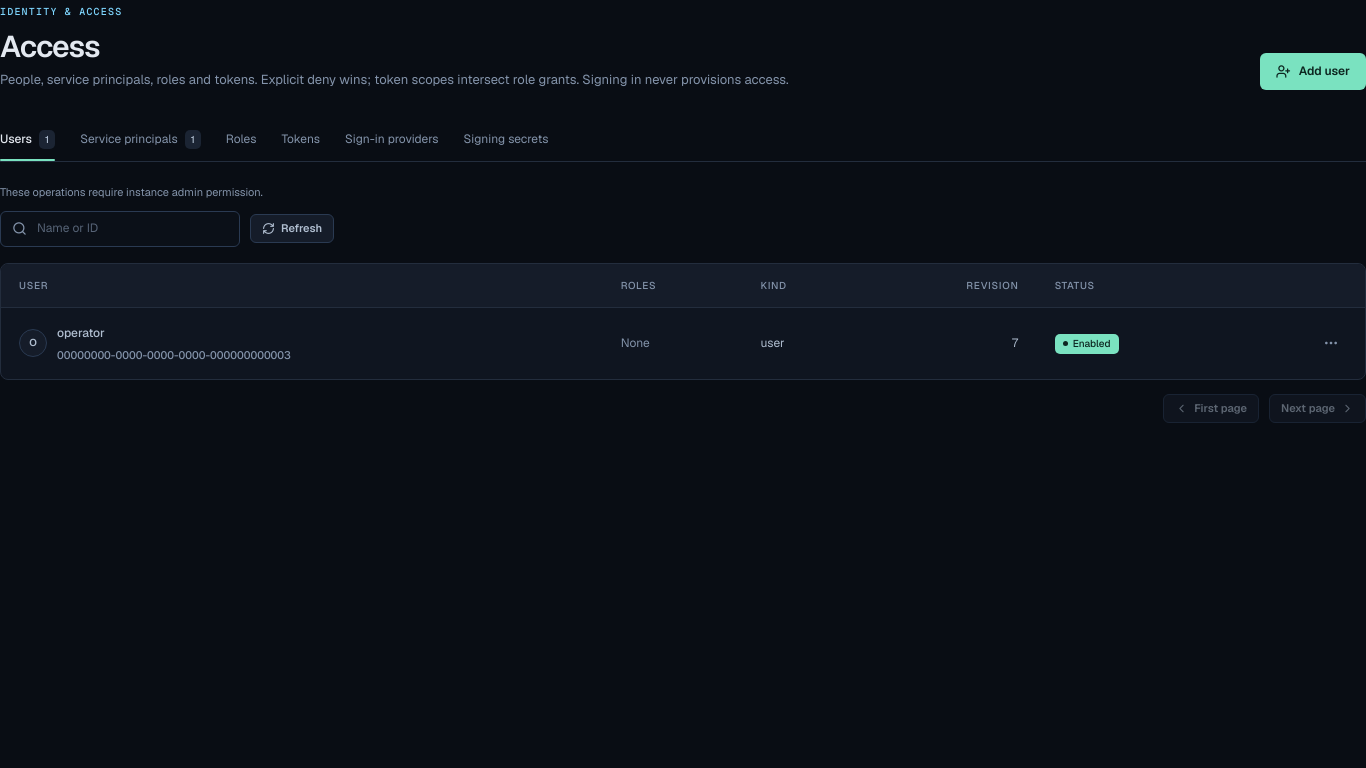
retains issuance failure feedback and requires a distinct new attempt
The width and height of the screenshot is (1366, 768).
Expected: the text "operator" is shown, top-left (57, 325), bottom-right (105, 341)
Click the tab "Tokens": (301, 139) top-left (282, 118), bottom-right (320, 160)
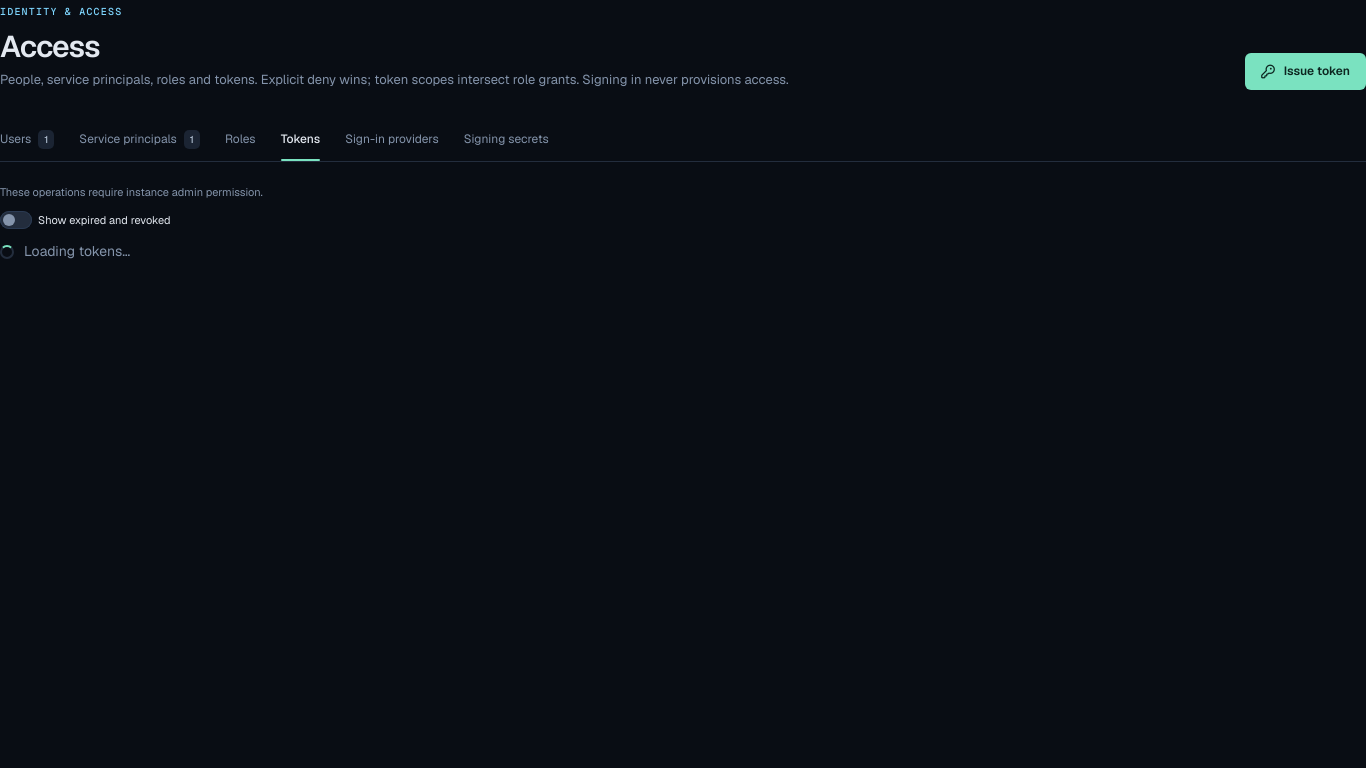
Click the button "Issue token": (1305, 71) top-left (1245, 52), bottom-right (1365, 90)
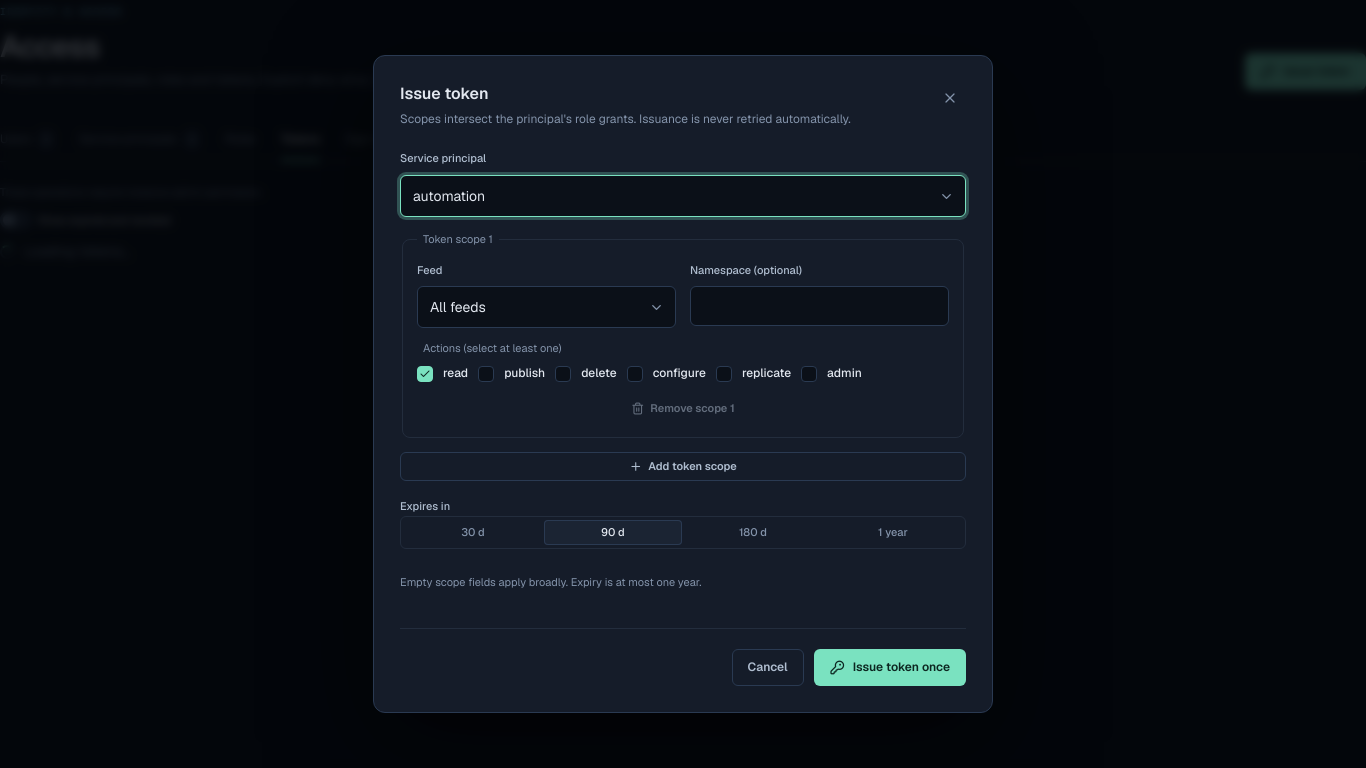
Click the button "Issue token once": (890, 667) top-left (814, 648), bottom-right (966, 686)
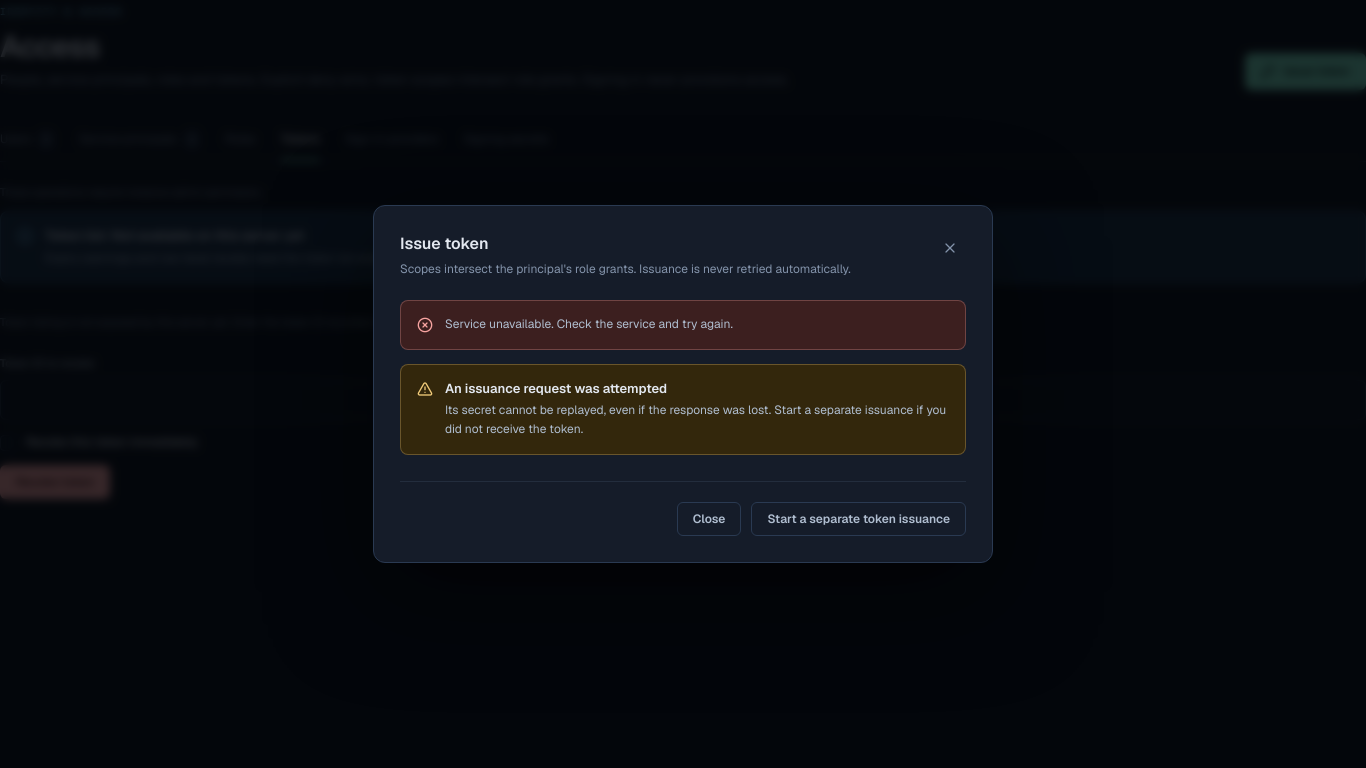
Expected: the text "Service unavailable. Check the service and try again." is shown, top-left (445, 316), bottom-right (733, 332)
Expected: the button "Issue token once" is gone
Expected: the button "Start a separate token issuance" is shown, top-left (751, 502), bottom-right (966, 536)
